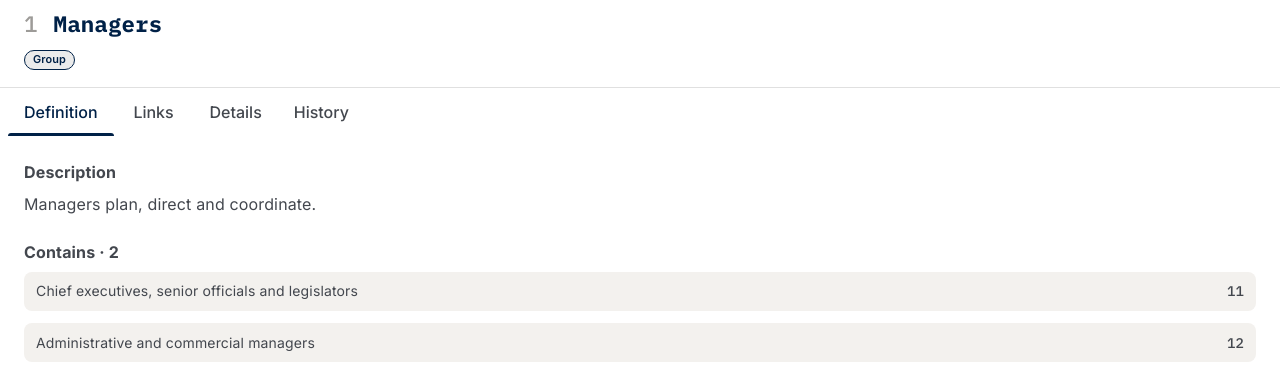
Test case: ExplorerDetailPanel › Links tab › should render a fallback message when there are no links
The width and height of the screenshot is (1280, 379).
Click the tab "Links" at (154, 112), box [114,88,194,136]
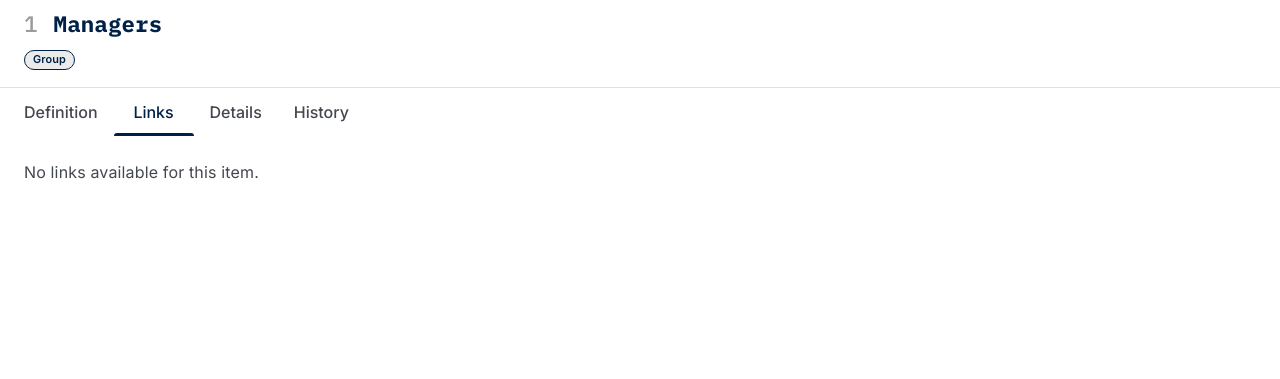
Expected: the text "No links available for this item." is shown, [24,162,259,182]
